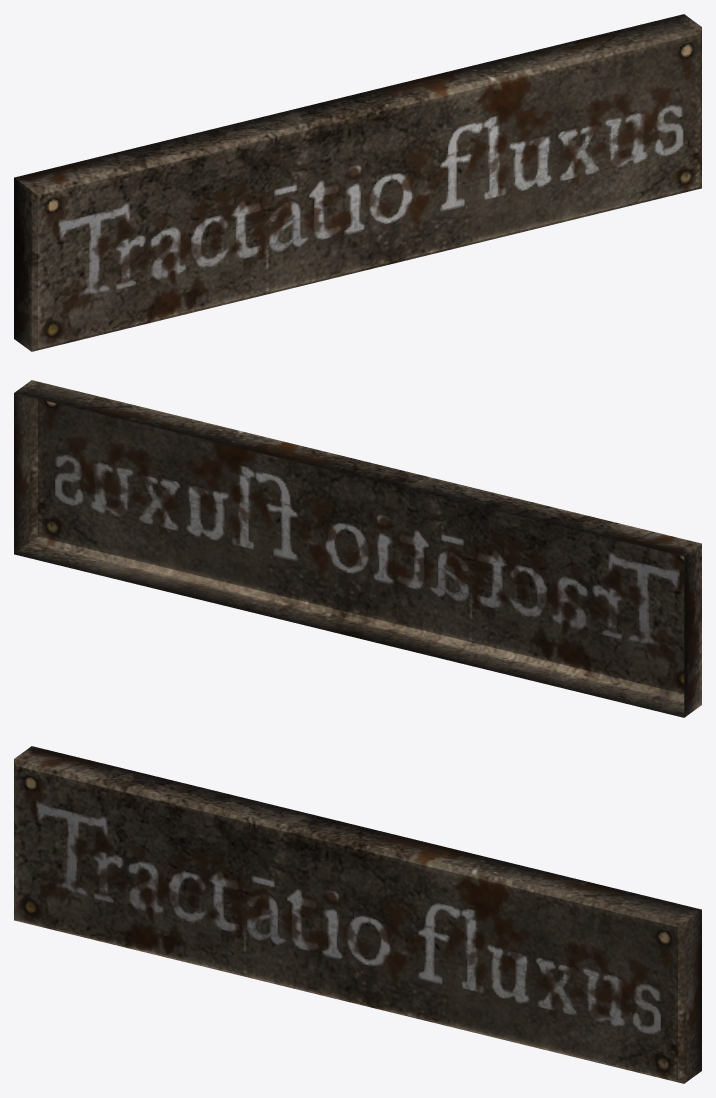
Rendered from lever_machine_sign.dae.
3 views of the same model, one above another, from view 1: azimuth 30°, elevation 25°; view 2: azimuth 150°, elevation 25°; view 3: azimuth 330°, elevation 25° (orthographic).
Parts seen in each view (by area): view 1: lever_machine_sign; view 2: lever_machine_sign; view 3: lever_machine_sign.
Part boxes in pixels (x1=…): lever_machine_sign: x1=14, y1=14, x2=701, y2=351; lever_machine_sign: x1=14, y1=380, x2=701, y2=717; lever_machine_sign: x1=14, y1=746, x2=701, y2=1083.
Bounding box in the file's own units: 1.82 × 0.4183 × 0.0941.
